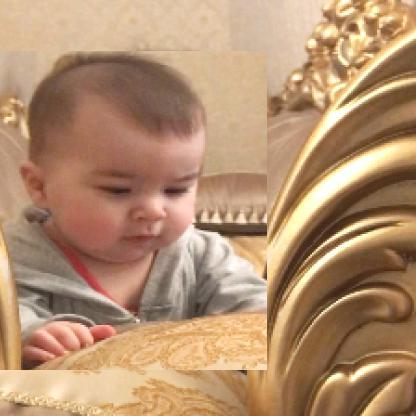child: (1, 52, 269, 372)
